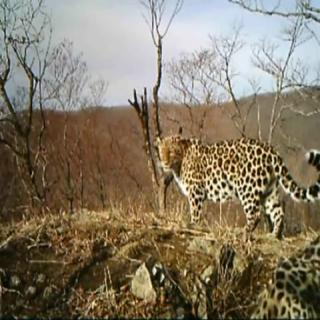Leopard: (153, 115, 320, 247)
